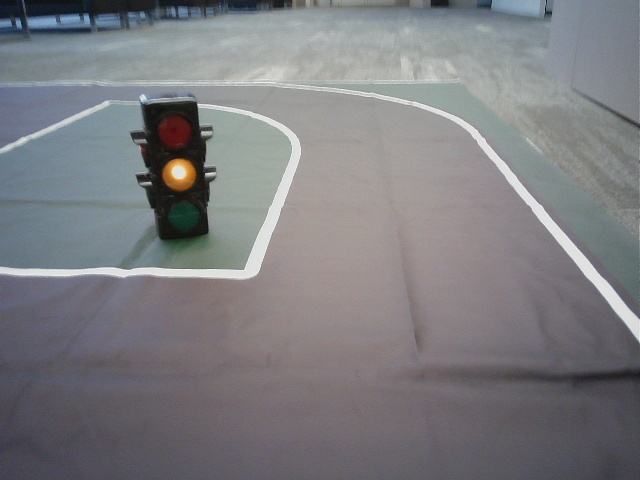yellow: (149, 109, 204, 233)
